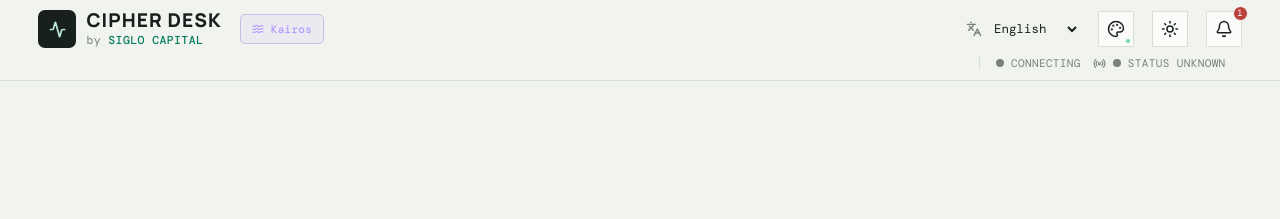
Test case: PlatformHeader › Kairos notification history hides persisted bot-trade details
Click the button named "1 unread notifications" at coordinates (1224, 29), box [1206,11,1242,47]
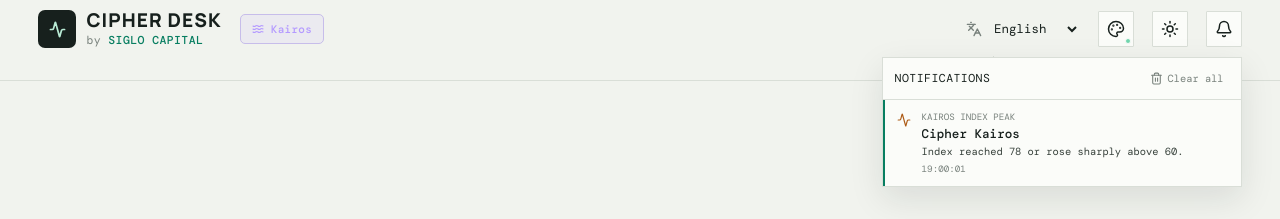
expect the text "Cipher Kairos" is shown: met, box [922,126,1020,142]
